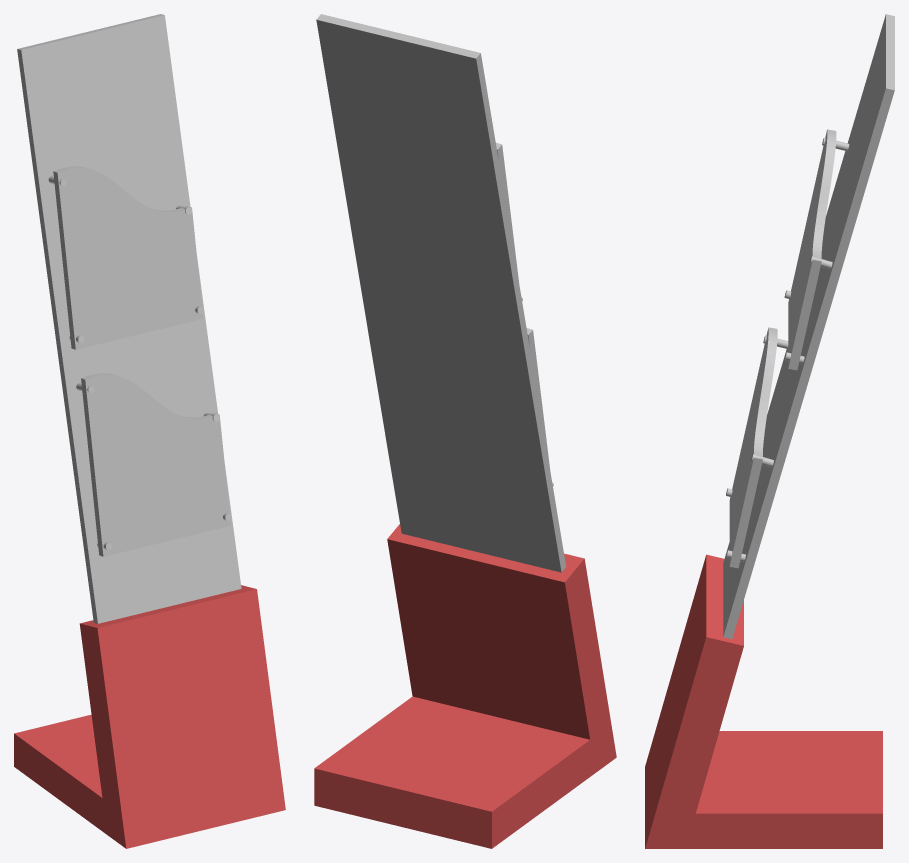
Rendered from stand.obj.
3 views of the same model, side by side, from view 1: azimuth 30°, elevation 25°; view 2: azimuth 150°, elevation 25°; view 3: azimuth 270°, elevation 25° (orthographic). The views are drawn at different scales.
Visible parts, largest first — view 1: Box12834, Line02, Rectangle06, Rectangle05; view 2: Box12834, Line02; view 3: Line02, Box12834, Rectangle06, Rectangle05.
Boxes of the visible parts, box(x1,y1,x2,y2) form: Box12834: box(17, 14, 241, 623); Line02: box(14, 585, 285, 848); Rectangle06: box(81, 373, 230, 556); Rectangle05: box(53, 166, 203, 349); Box12834: box(316, 14, 566, 572); Line02: box(314, 524, 616, 848); Line02: box(645, 554, 882, 848); Box12834: box(723, 14, 894, 639); Rectangle06: box(729, 327, 777, 568); Rectangle05: box(788, 129, 836, 370).
Size of the model in its own units: 10 by 42.75 by 12.78.
